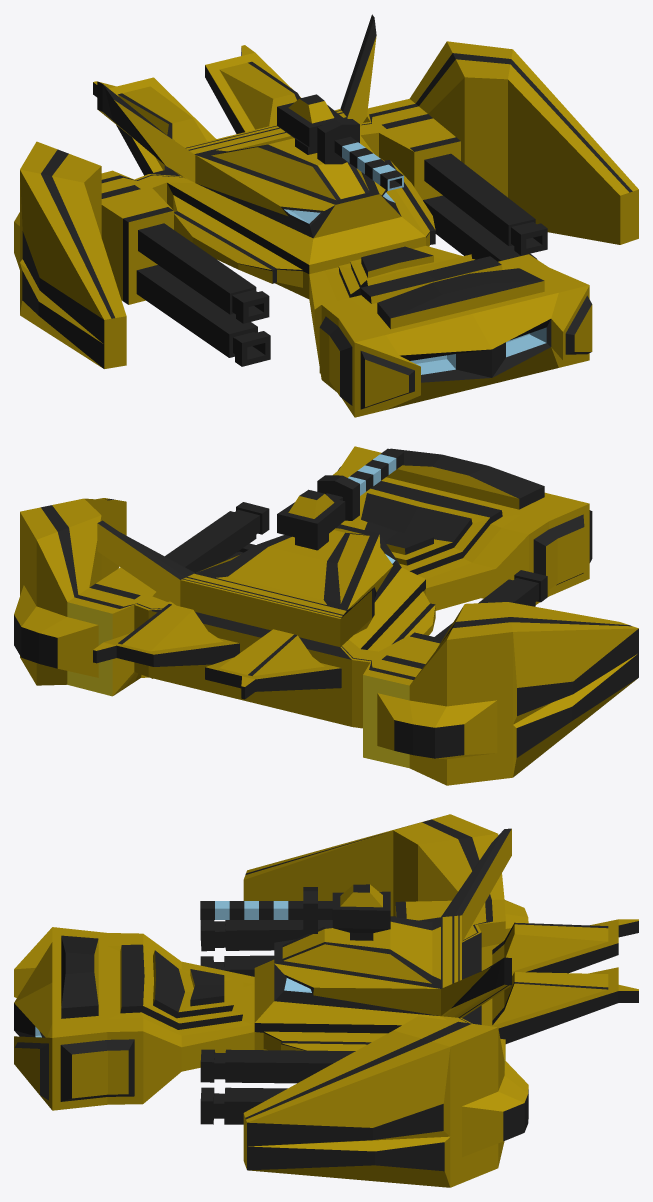
Rendered from Transformer.fbx.
3 renders of one model, top to bottom at view 1: azimuth 30°, elevation 25°; view 2: azimuth 150°, elevation 25°; view 3: azimuth 270°, elevation 25°, orthographic. The views are drawn at different scales.
Visible parts, largest first — view 1: Cube, Cube.001; view 2: Cube, Cube.001; view 3: Cube, Cube.001.
Boxes of the visible parts, x1,y1,x2,y2 form: Cube: [14, 14, 638, 417]; Cube.001: [277, 94, 403, 190]; Cube: [14, 446, 638, 785]; Cube.001: [277, 448, 403, 550]; Cube: [14, 814, 638, 1187]; Cube.001: [200, 884, 390, 940].
Bounding box in the file's own units: 526 × 178 × 551.
